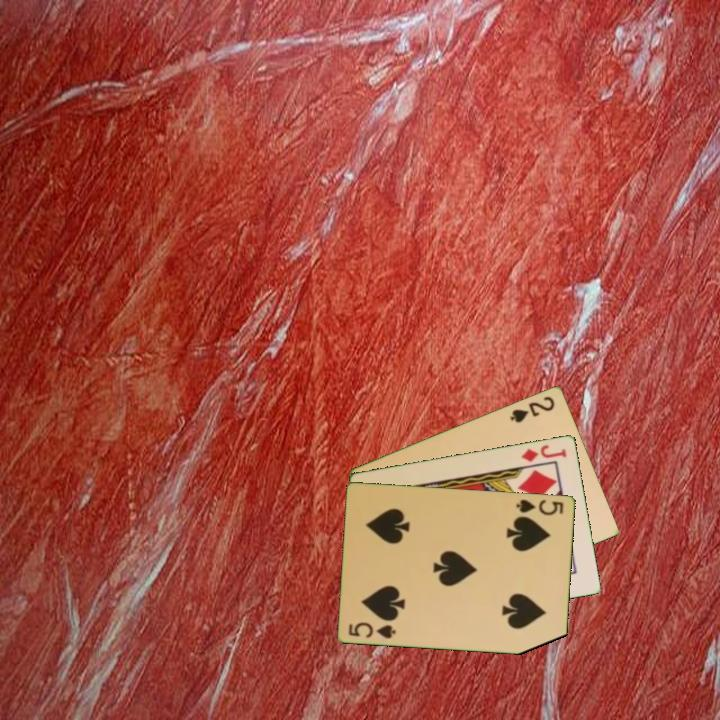2s: (507, 392, 558, 426)
5s: (513, 495, 567, 518), (345, 618, 399, 641)
Jd: (518, 441, 570, 464)
